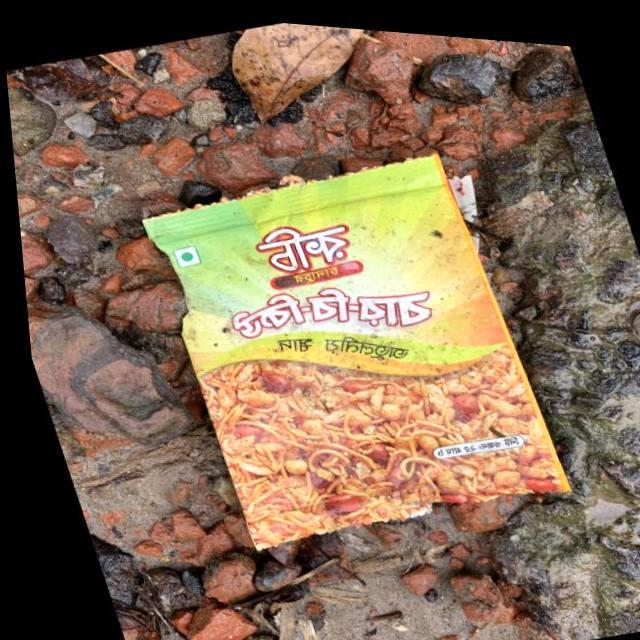packet: (110, 107, 575, 577)
